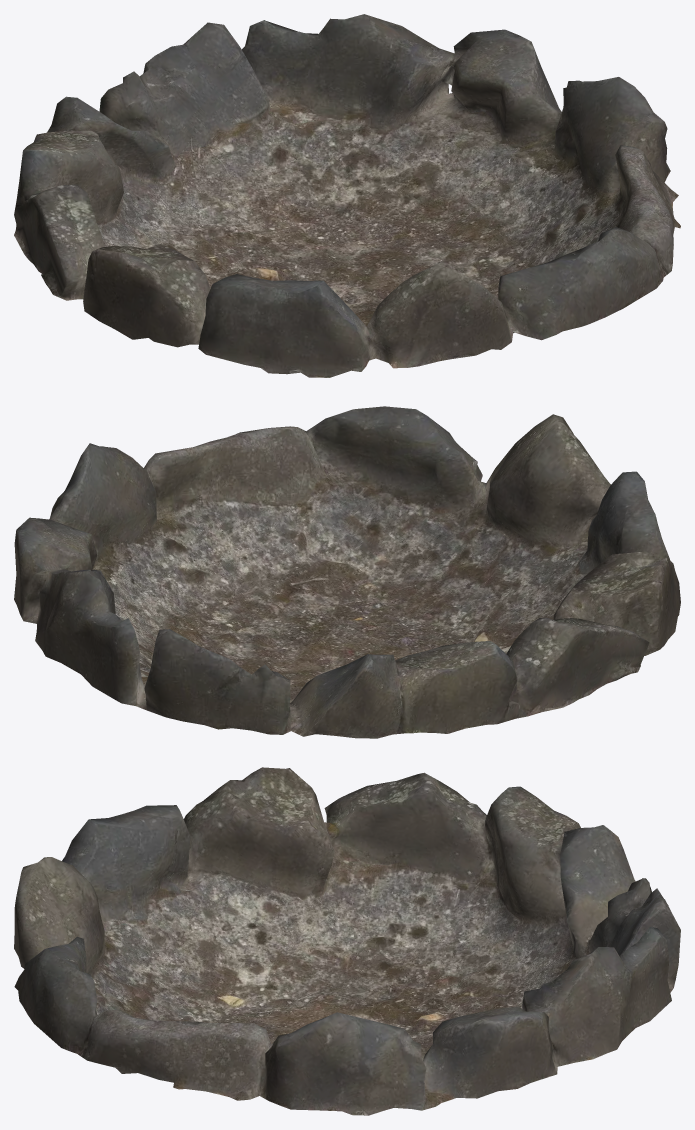
File: stone-fire-pit.glb
3 views of the same model, one above another, from view 1: azimuth 30°, elevation 25°; view 2: azimuth 150°, elevation 25°; view 3: azimuth 270°, elevation 25° (orthographic).
Visible parts, largest first — view 1: stone_fire_pit; view 2: stone_fire_pit; view 3: stone_fire_pit.
Part boxes in pixels (x1=…): stone_fire_pit: x1=14, y1=14, x2=680, y2=377; stone_fire_pit: x1=14, y1=406, x2=680, y2=738; stone_fire_pit: x1=14, y1=767, x2=680, y2=1115.
Size of the model in its own units: 1.45 by 0.3883 by 1.43.
Materials: 1 (1 with a texture image).
